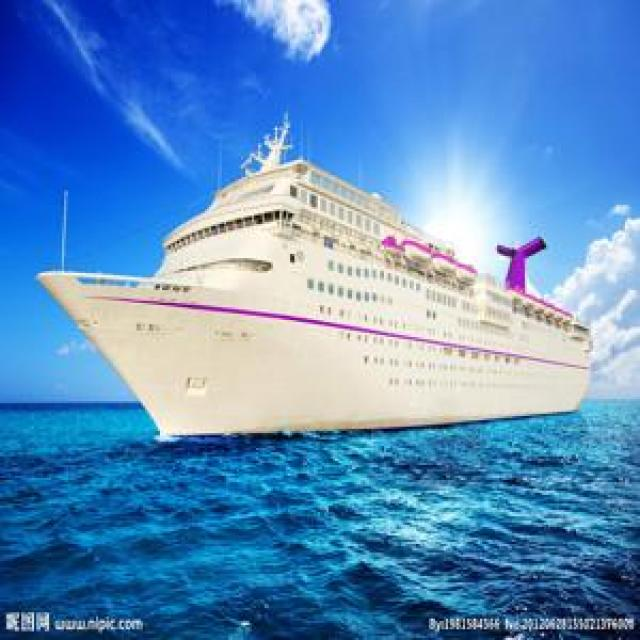passenger ship: (37, 112, 600, 436)
